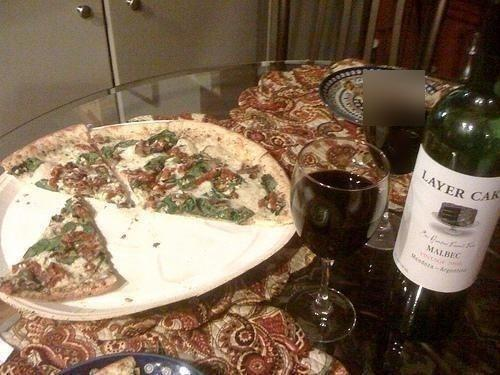bottle-glass: (379, 18, 499, 336)
glass-wine: (286, 139, 388, 342)
